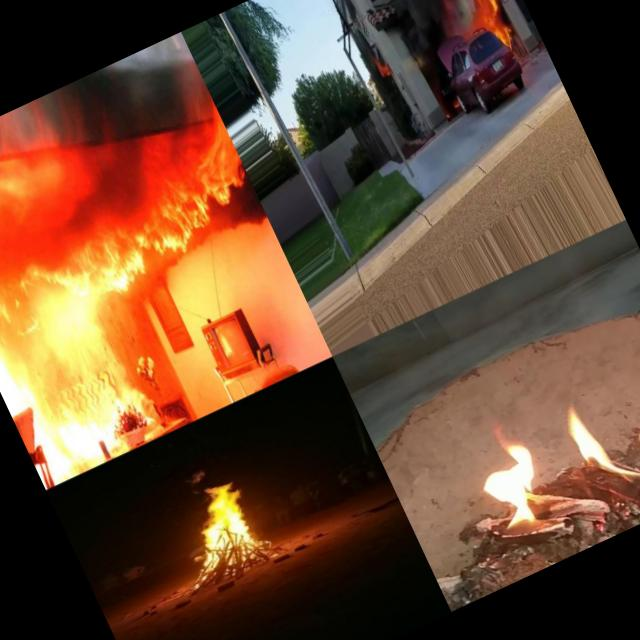fire: (460, 348, 640, 580), (0, 183, 201, 342), (0, 287, 163, 475), (162, 466, 272, 582), (437, 0, 529, 54)
smoke: (27, 42, 195, 180), (195, 168, 275, 256), (363, 0, 483, 46)
